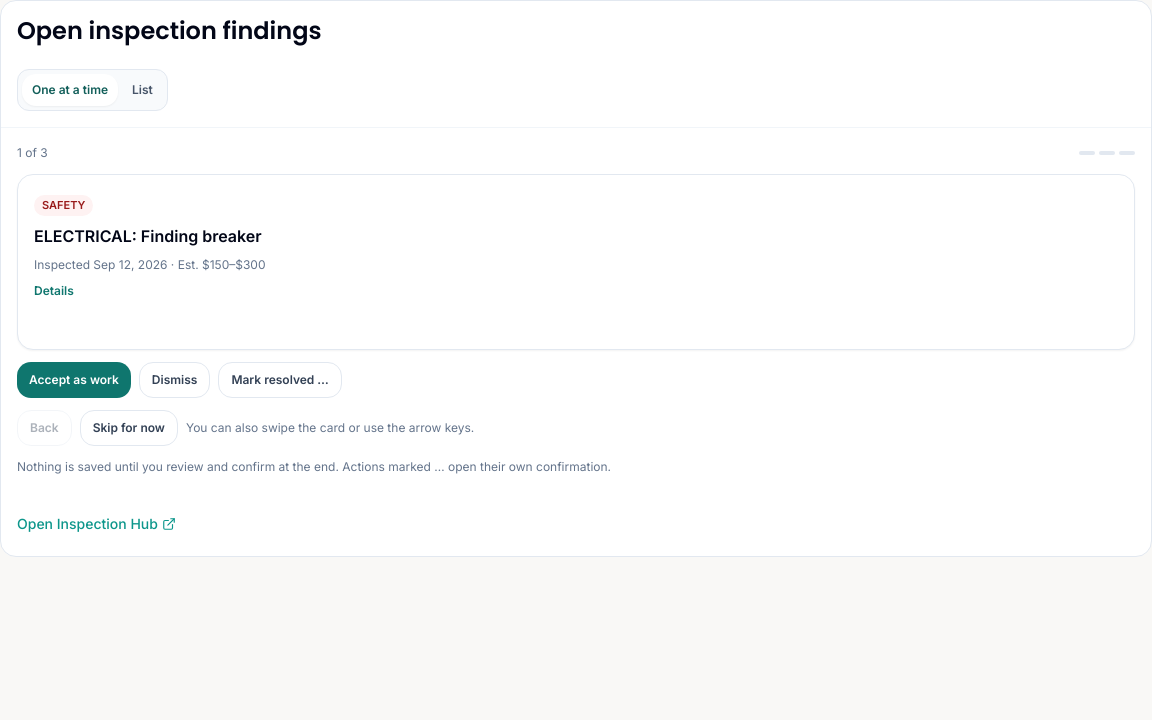
Test: the deck records Accept and Dismiss without sending anything, and sends them together at the end
Expected: the element named "Finding breaker, 1 of 3" shows "Safety", top-left (42, 198), bottom-right (85, 212)
Expected: the element named "Finding breaker, 1 of 3" shows "Inspected Sep 12, 2026 · Est. $150–$300", top-left (34, 257), bottom-right (266, 272)
Click the button "Accept as work". click: (74,380)
box: top-left (17, 362), bottom-right (131, 398)
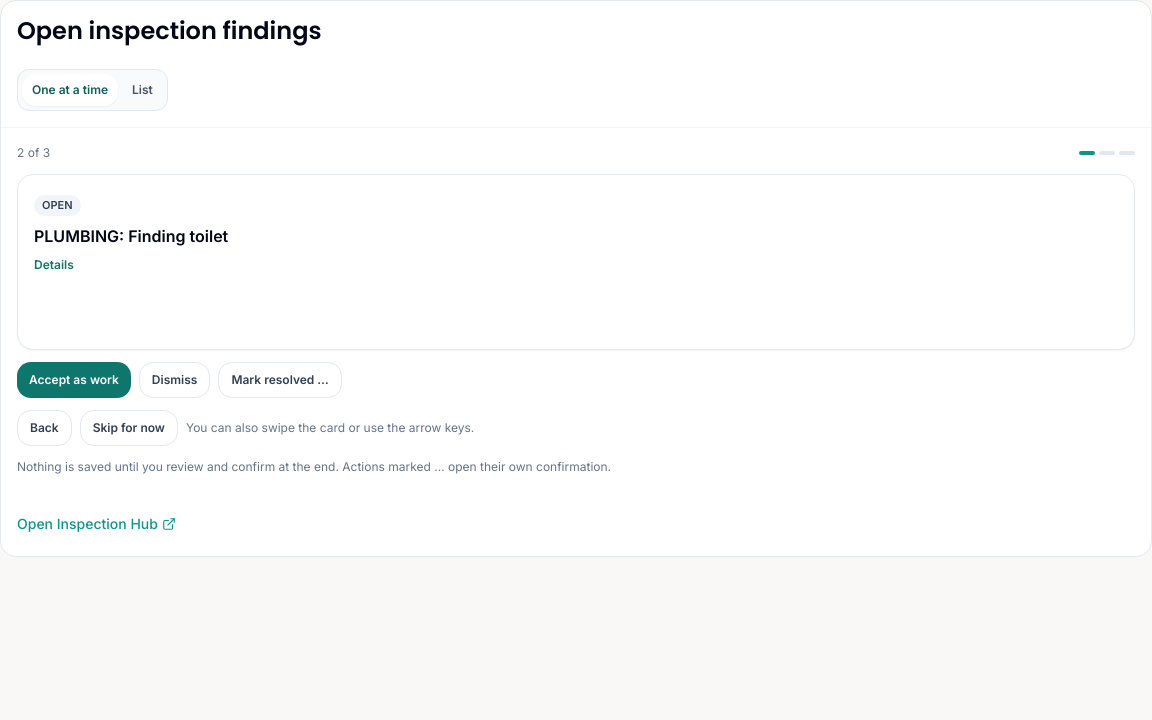
Click the button "Dismiss". click: (175,380)
box: top-left (139, 362), bottom-right (210, 398)
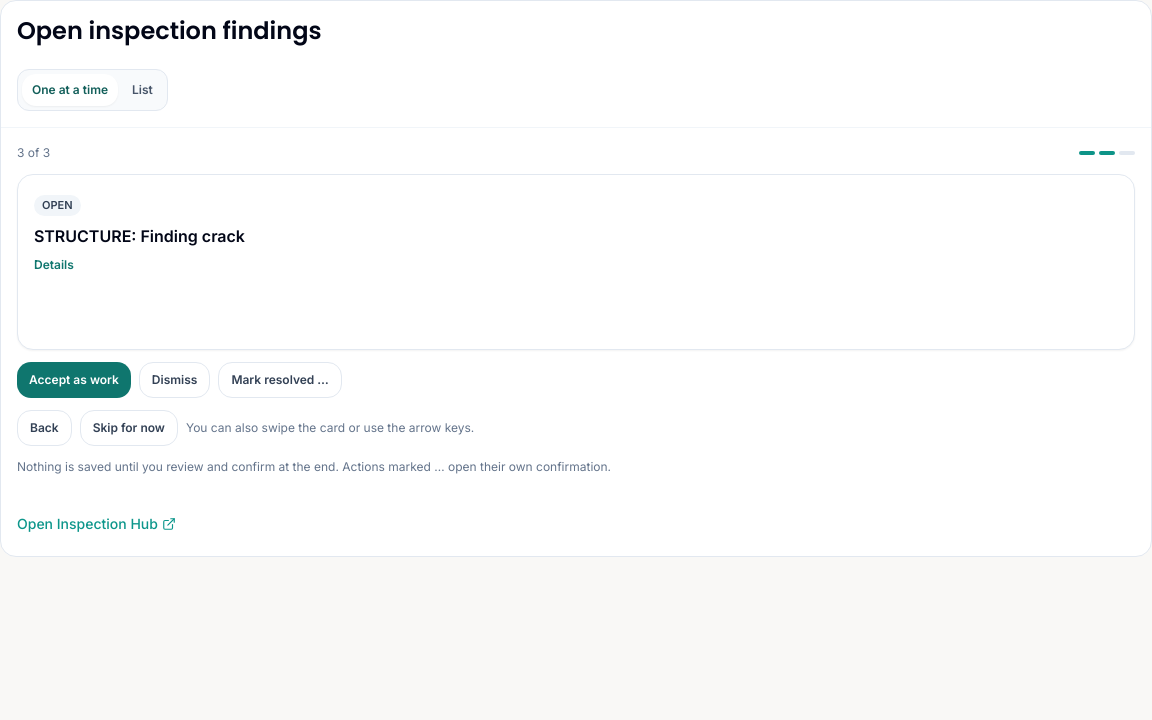
Click the button "Skip for now". click: (129,428)
box: top-left (80, 410), bottom-right (178, 446)
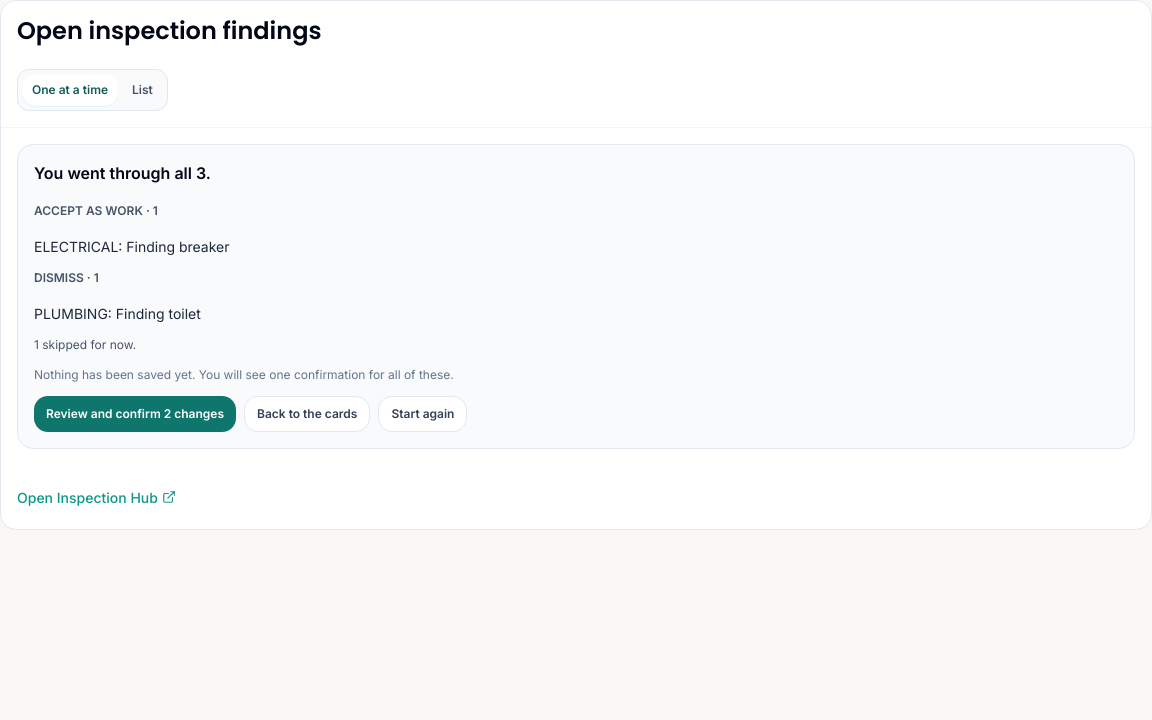
Now the element showing "Accept as work · 1 ELECTRICAL: Finding breaker" is shown, box top-left (34, 203), bottom-right (230, 255)
Now the element showing "Dismiss · 1 PLUMBING: Finding toilet" is shown, box top-left (34, 270), bottom-right (201, 322)
Now the text "1 skipped for now." is shown, box top-left (34, 337), bottom-right (136, 352)
Click the button "Review and confirm 2 changes". click: (135,414)
box: top-left (34, 396), bottom-right (236, 432)
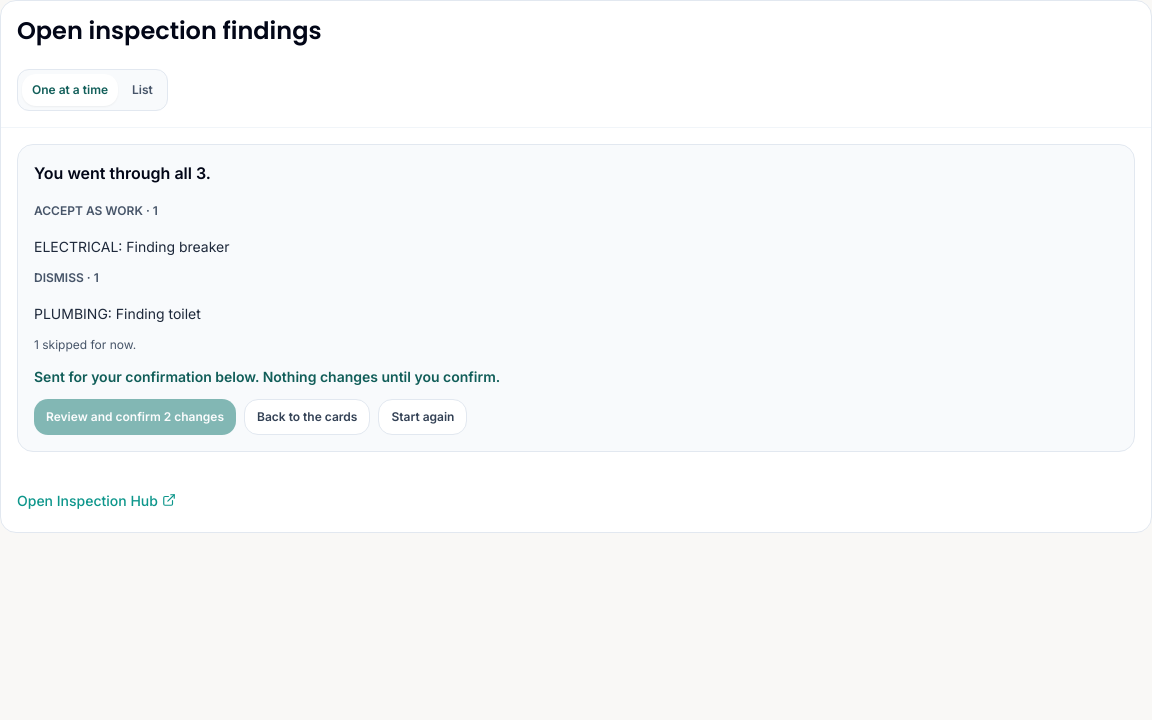
Now the message reads "Sent for your confirmation below. Nothing changes until you confirm.", box top-left (34, 368), bottom-right (500, 385)
Now the button "Review and confirm 2 changes" is disabled, box top-left (34, 399), bottom-right (236, 435)
